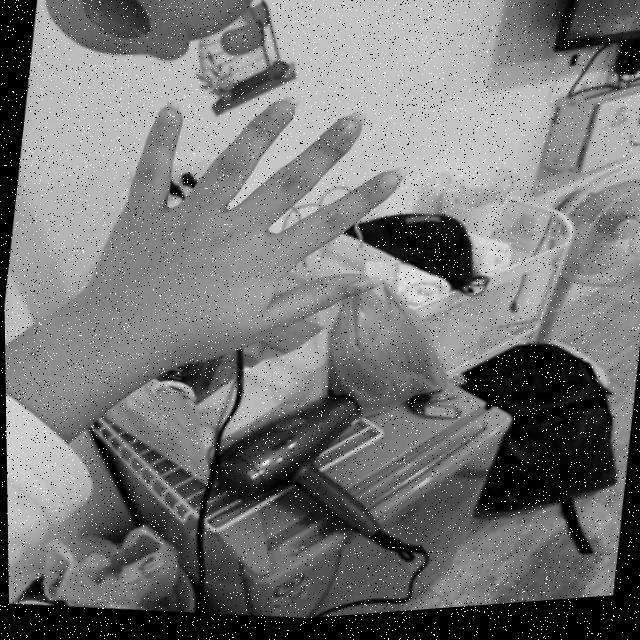hand: (72, 69, 418, 399)
